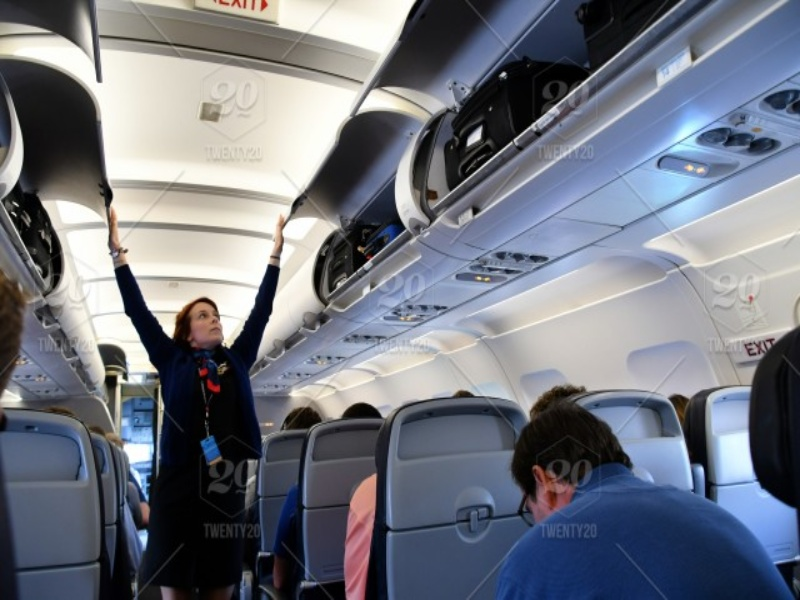close_bin: (289, 234, 333, 339), (61, 242, 87, 362), (254, 283, 288, 359), (90, 332, 108, 389)
open_bin: (411, 1, 685, 232), (324, 122, 424, 306), (5, 80, 59, 291)
